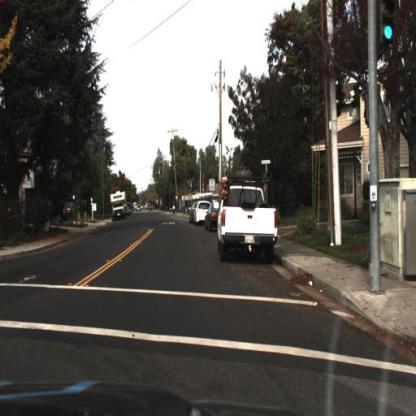car: (215, 173, 279, 256), (195, 198, 209, 227)
truck: (109, 188, 129, 224)
